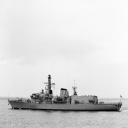Fragata: (8, 74, 123, 112)
